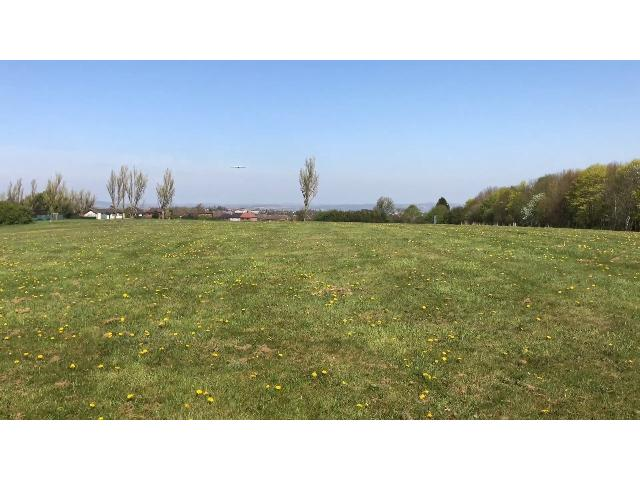Anti-Drone: (226, 161, 246, 173)
